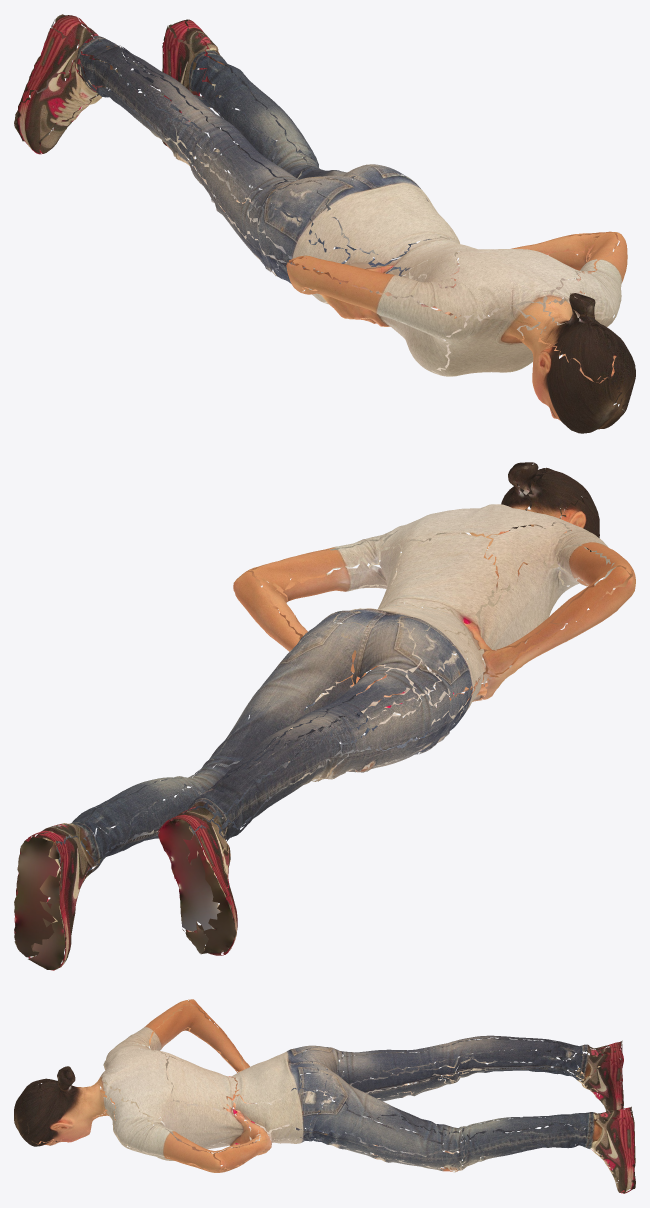
File: patient_scanf.glb
3 renders of one model, top to bottom at view 1: azimuth 30°, elevation 25°; view 2: azimuth 150°, elevation 25°; view 3: azimuth 270°, elevation 25°, orthographic. The views are drawn at different scales.
Visible parts, largest first — view 1: Object_6, Object_5, Object_2, Object_3, Object_4; view 2: Object_6, Object_4, Object_3, Object_5, Object_2; view 3: Object_2, Object_6, Object_4, Object_3, Object_5.
Boxes of the visible parts, box(x1,y1,x2,y2) form: Object_6: box(14, 14, 635, 410); Object_5: box(41, 17, 635, 433); Object_2: box(51, 18, 614, 371); Object_3: box(52, 15, 627, 376); Object_4: box(75, 38, 588, 341); Object_6: box(14, 468, 571, 960); Object_4: box(51, 462, 629, 970); Object_3: box(14, 515, 635, 956); Object_5: box(28, 462, 599, 969); Object_2: box(28, 504, 632, 941); Object_2: box(100, 999, 631, 1192); Object_6: box(15, 1041, 635, 1187); Object_4: box(52, 999, 625, 1193); Object_3: box(99, 1001, 635, 1191); Object_5: box(14, 1042, 634, 1193).
Size of the model in its own units: 3.08 by 1.58 by 7.07.
Materials: 5 (5 with a texture image).
